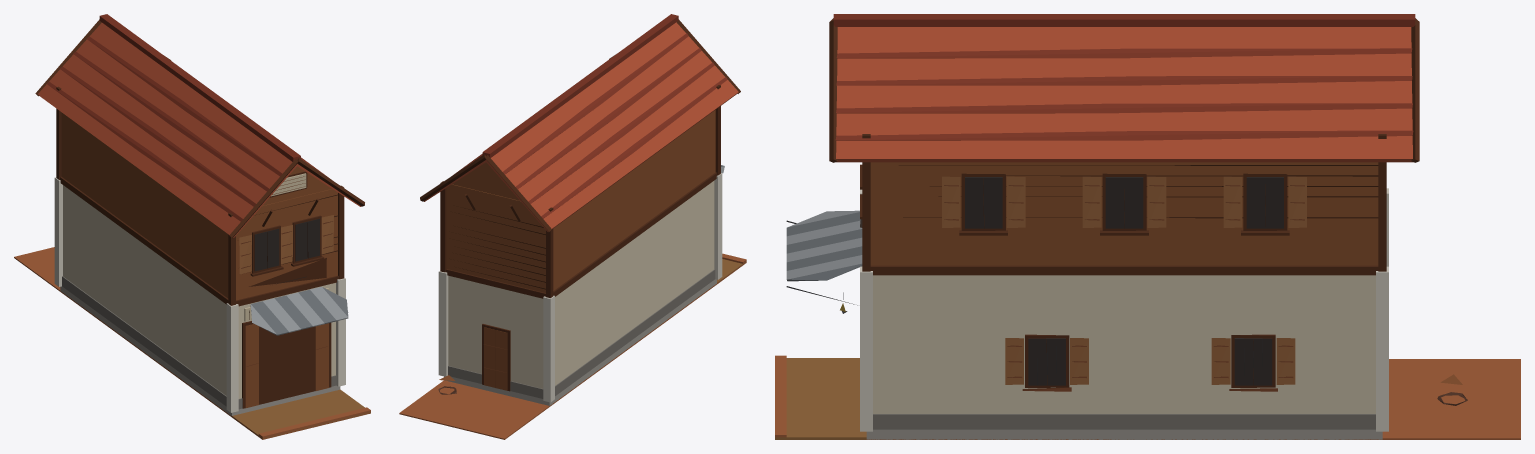
File: bay1_right.glb
3 renders of one model, left to right at view 1: azimuth 30°, elevation 25°; view 2: azimuth 150°, elevation 25°; view 3: azimuth 270°, elevation 25°, orthographic. The views are drawn at different scales.
Visible parts, largest first — view 1: body, windows; view 2: body; view 3: body, windows.
Boxes of the visible parts, x1,y1,x2,y2 form: body: (14, 14, 370, 439); windows: (254, 218, 319, 271); body: (399, 14, 746, 439); body: (775, 14, 1520, 439); windows: (840, 177, 1283, 385).
Size of the model in its own units: 5.02 by 9.02 by 15.9.
